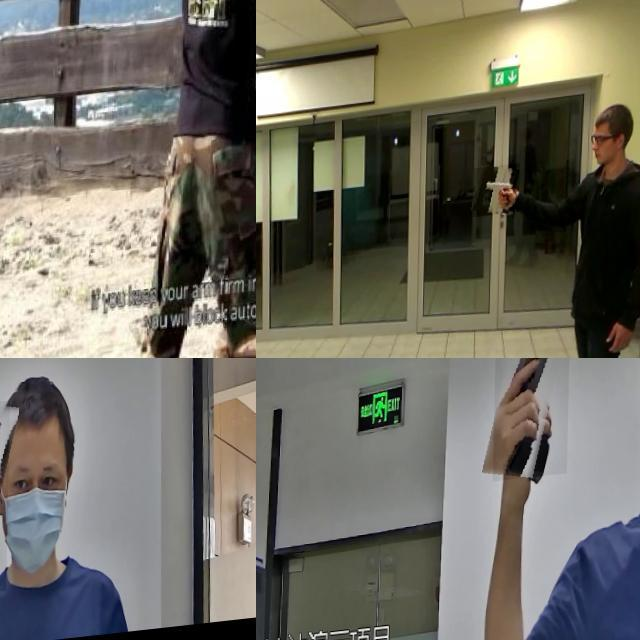-: (132, 0, 181, 59)
gun-knife-thesis - v11 Yolov5 augmented: (494, 358, 572, 487), (0, 407, 36, 604), (474, 174, 521, 227)
